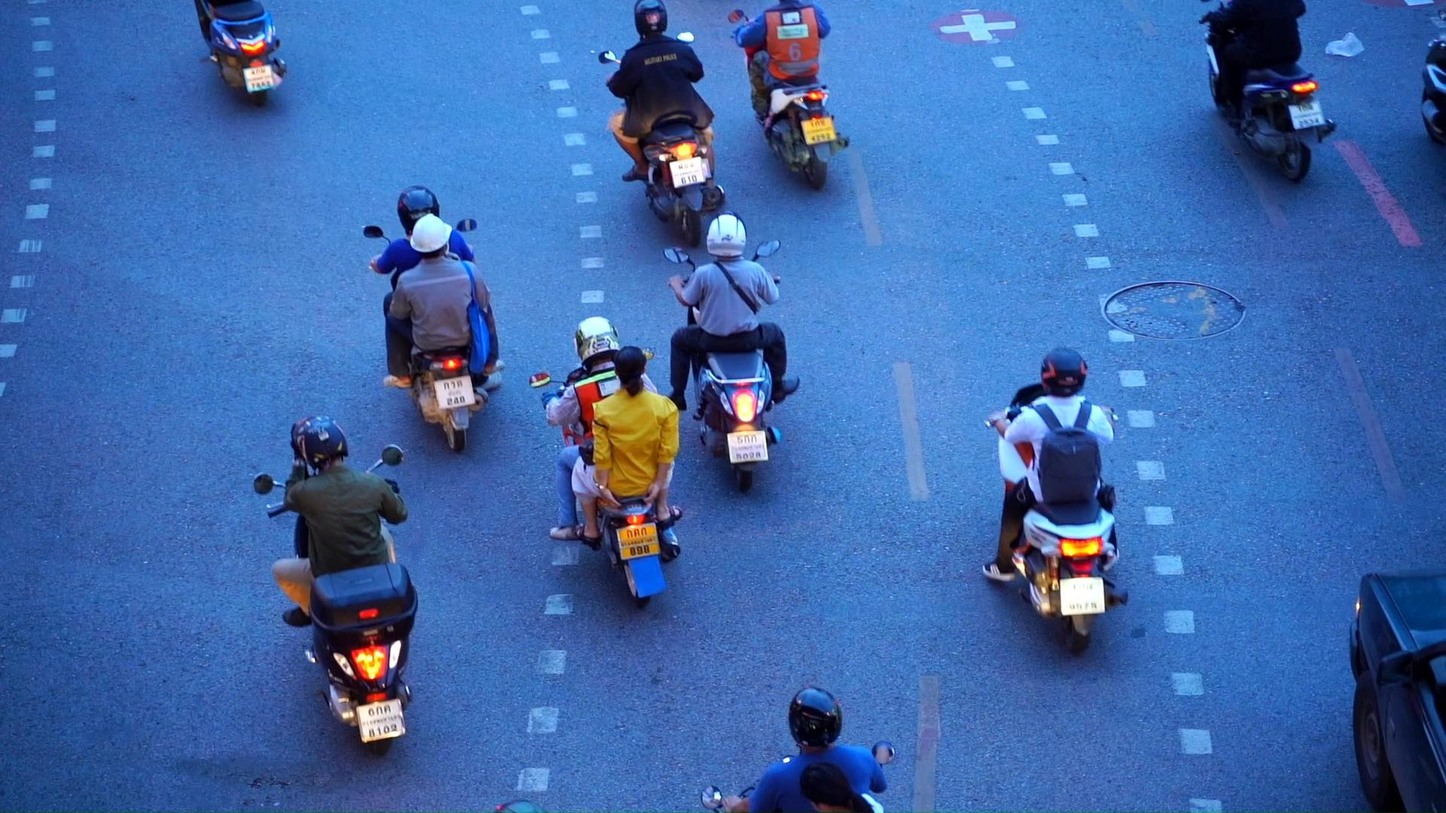driver: (253, 415, 417, 755), (528, 317, 683, 609), (982, 347, 1128, 655), (664, 210, 800, 492), (364, 184, 506, 452), (597, 0, 725, 247), (1198, 0, 1336, 182), (701, 686, 896, 813), (727, 0, 851, 192), (194, 0, 288, 108)
helmet: (789, 686, 843, 749), (293, 415, 349, 471), (1041, 347, 1088, 397), (576, 316, 620, 368), (397, 185, 440, 237), (409, 213, 453, 261), (706, 210, 748, 258), (634, 0, 668, 35)
no-helmet: (801, 761, 875, 813), (613, 345, 646, 398)
